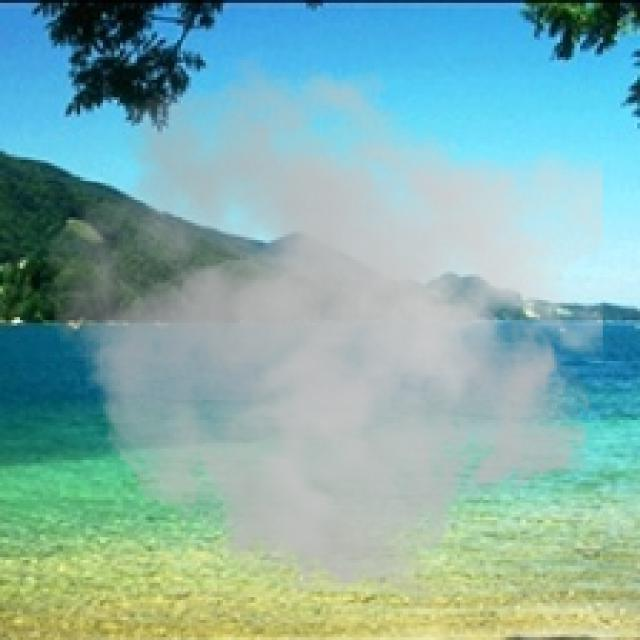smoke: (43, 51, 603, 612)
